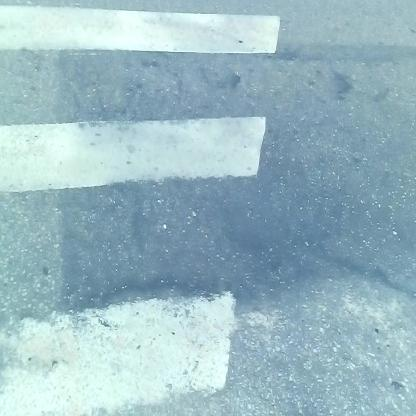crosswalk: (14, 1, 264, 394)
